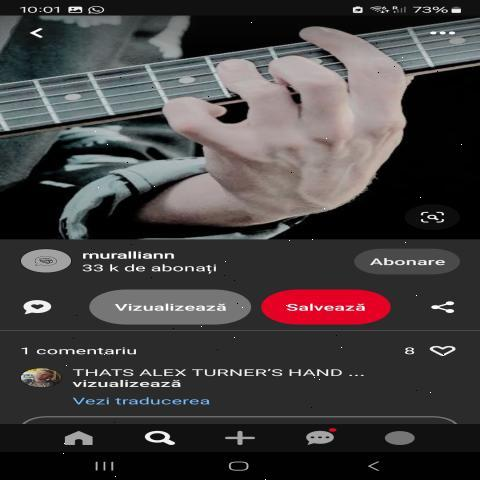Hands: (138, 20, 441, 224)
